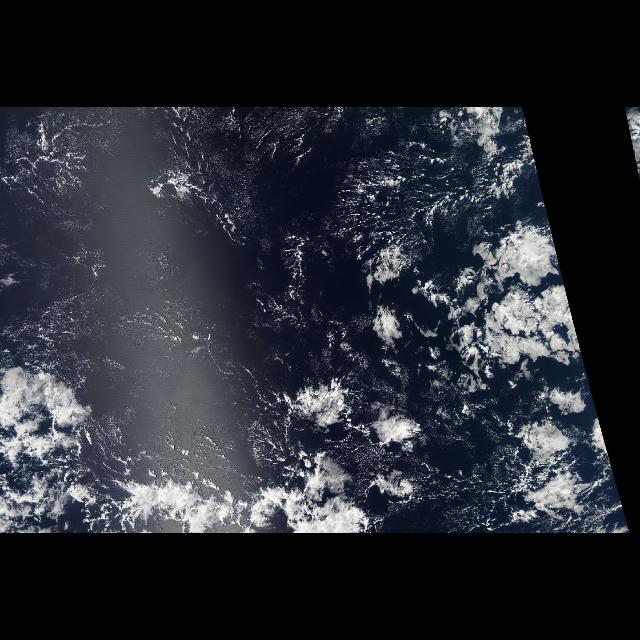Flower: (188, 190, 630, 532)
Gravel: (318, 135, 522, 309)
Sugar: (3, 108, 331, 370)
